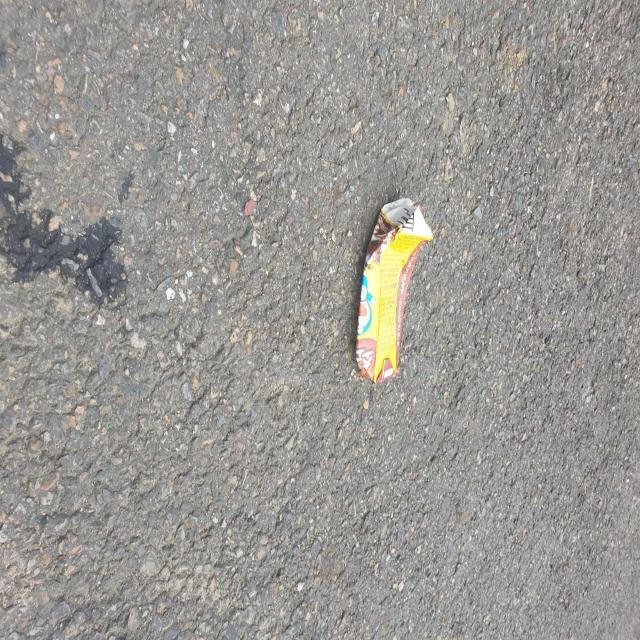paperpack: (356, 198, 433, 382)
